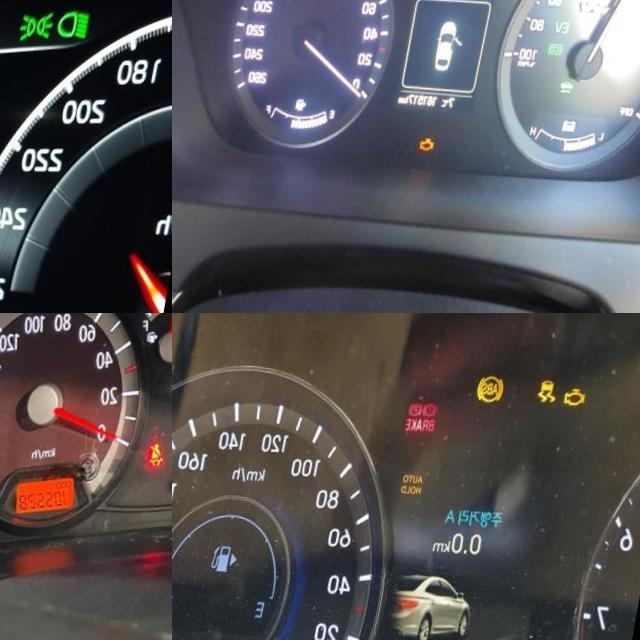Low beam: (59, 2, 95, 35)
SideLamp: (22, 4, 60, 38)
